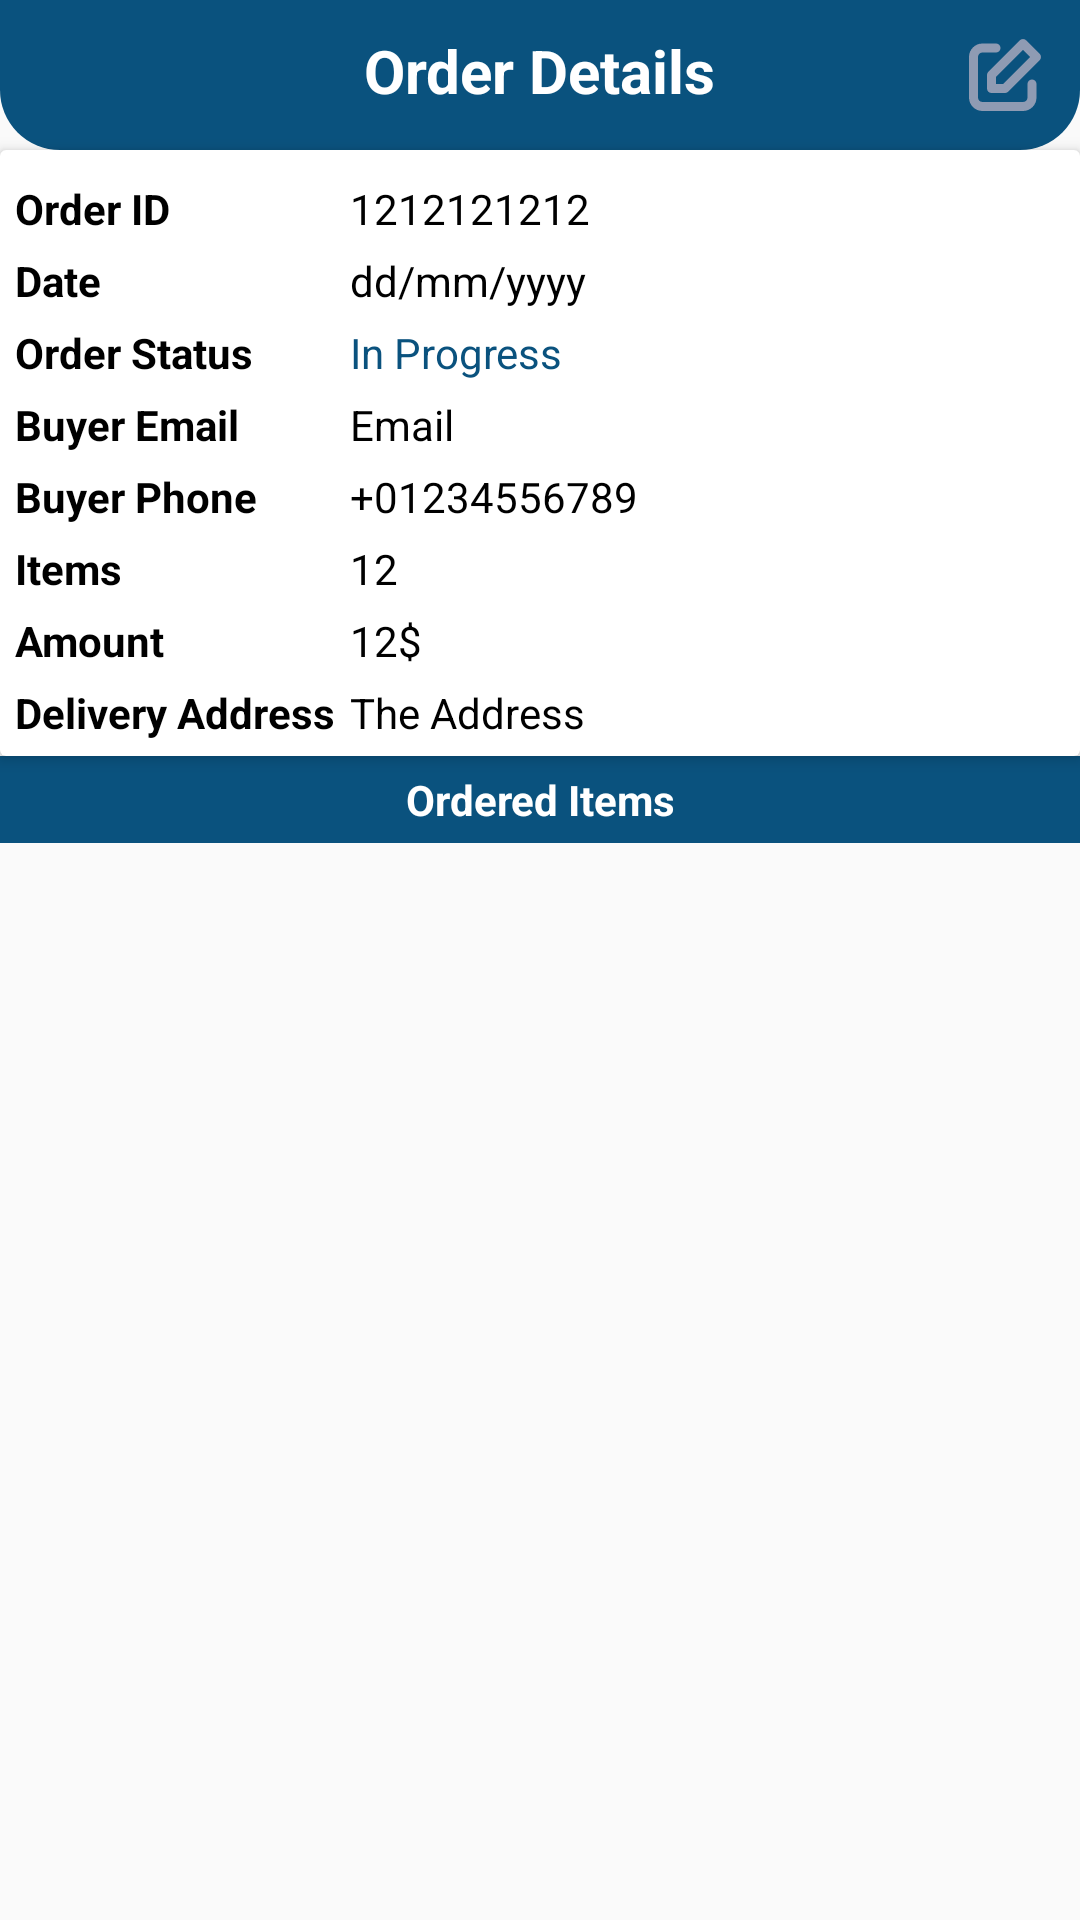

Icons on this 1080x1920 Android screen, each with its box as (x1, y1, x2, y2):
edit: (969, 39, 1041, 111)
